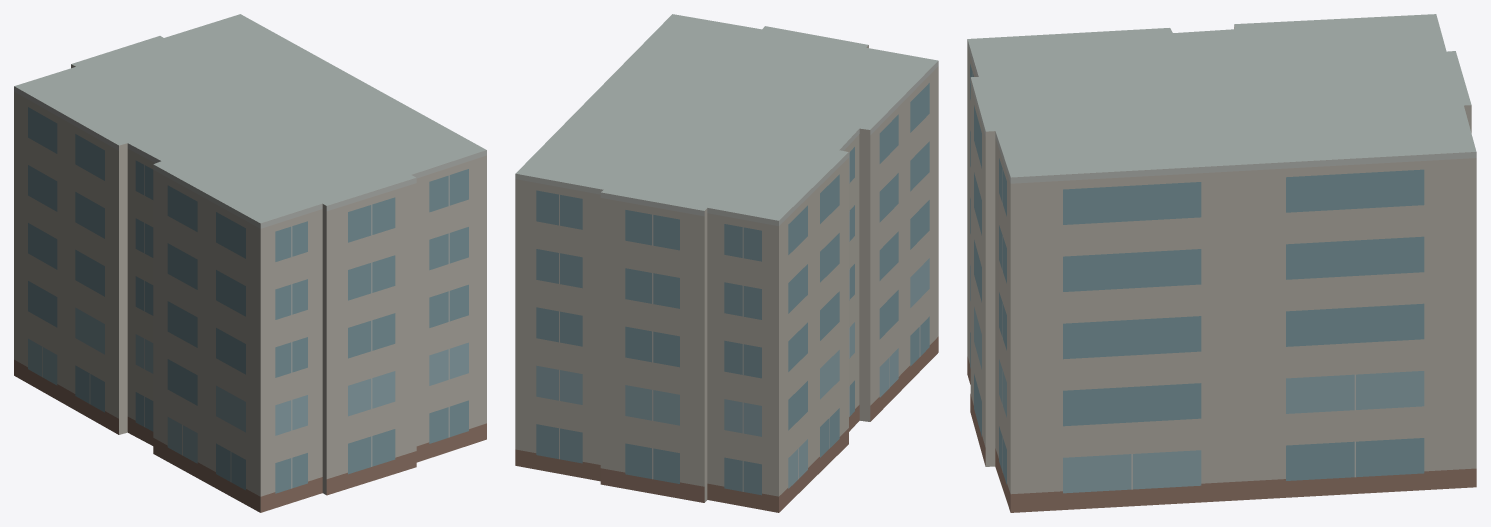
The model's file is survey-upis-33013876.glb.
3 views of the same model, side by side, from view 1: azimuth 30°, elevation 25°; view 2: azimuth 150°, elevation 25°; view 3: azimuth 270°, elevation 25° (orthographic). The views are drawn at different scales.
Visible parts, largest first — view 1: survey-upis-33013876.tmp; view 2: survey-upis-33013876.tmp; view 3: survey-upis-33013876.tmp.
Boxes of the visible parts, <box> form: survey-upis-33013876.tmp: <box>14,14,486,512</box>; survey-upis-33013876.tmp: <box>515,14,938,512</box>; survey-upis-33013876.tmp: <box>967,14,1476,512</box>.
Size of the model in its own units: 13.7 by 13.1 by 18.03.
